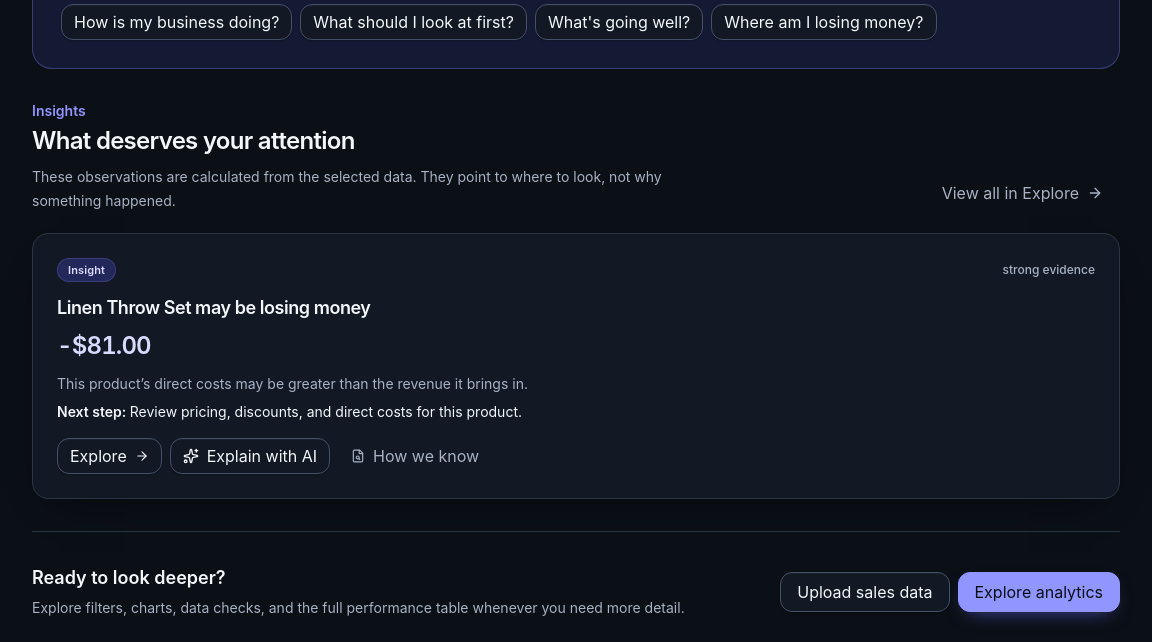
Test: Overview dashboard › keeps detailed findings inspectable without recreating a business formula
Later steps or results of the test are not shown.
(page scrolled)
Step 1. Click the button "Explore" → (109, 456), box [57, 438, 162, 474]
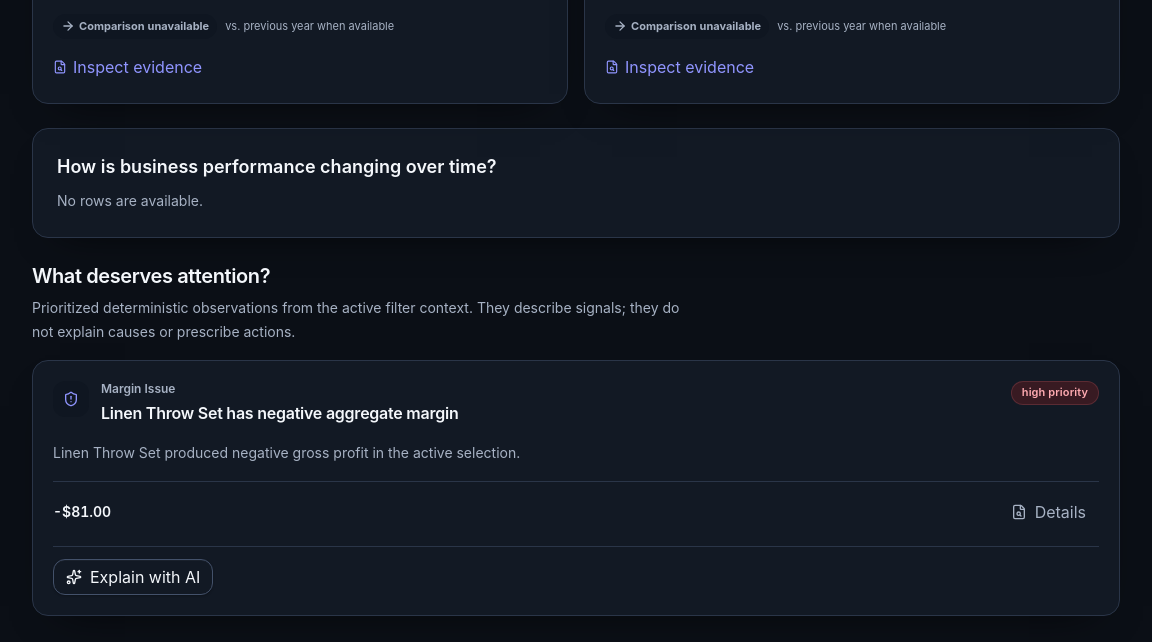
expect the heading "Linen Throw Set has negative aggregate margin" is shown: met, box [101, 401, 458, 425]
Step 2. Click the button "Details" → (1048, 512), box [998, 494, 1099, 530]
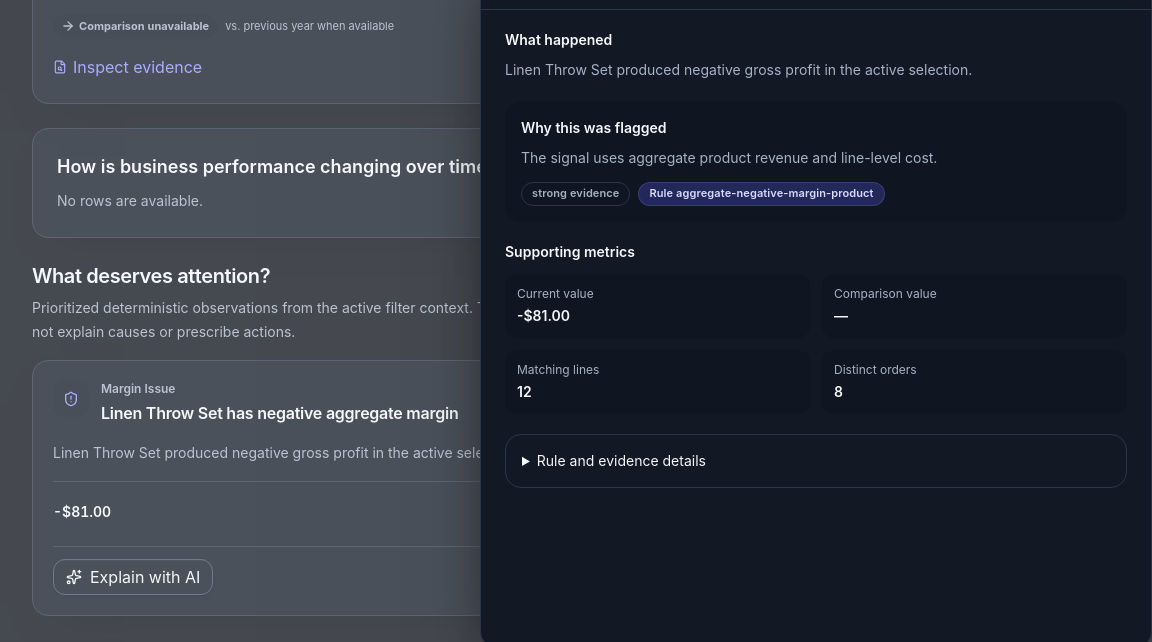
expect the dialog named "Finding details: Linen Throw Set" shows "Rule and evidence details": met, box [537, 452, 706, 469]
